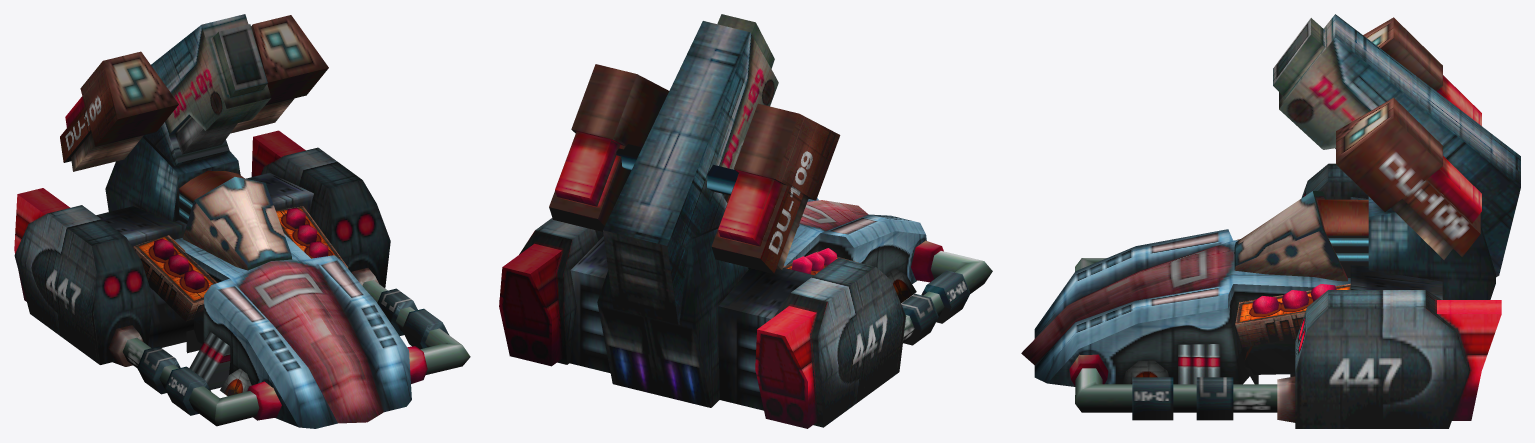
Rendered from datan_common_base4_fce9de4d.obj.
The picture shows the model from 3 angles, left to right: view 1: azimuth 30°, elevation 25°; view 2: azimuth 150°, elevation 25°; view 3: azimuth 270°, elevation 25°; orthographic projection. The views are drawn at different scales.
Parts seen in each view (by area): view 1: datan_common_base4_fce9de4d; view 2: datan_common_base4_fce9de4d; view 3: datan_common_base4_fce9de4d.
Boxes of the visible parts, bbox=[...] form: datan_common_base4_fce9de4d: bbox=[14, 14, 470, 428]; datan_common_base4_fce9de4d: bbox=[499, 14, 992, 428]; datan_common_base4_fce9de4d: bbox=[1021, 14, 1520, 428].
Size of the model in its own units: 5.55 by 5.45 by 7.38.
Materials: 1 (1 with a texture image).
